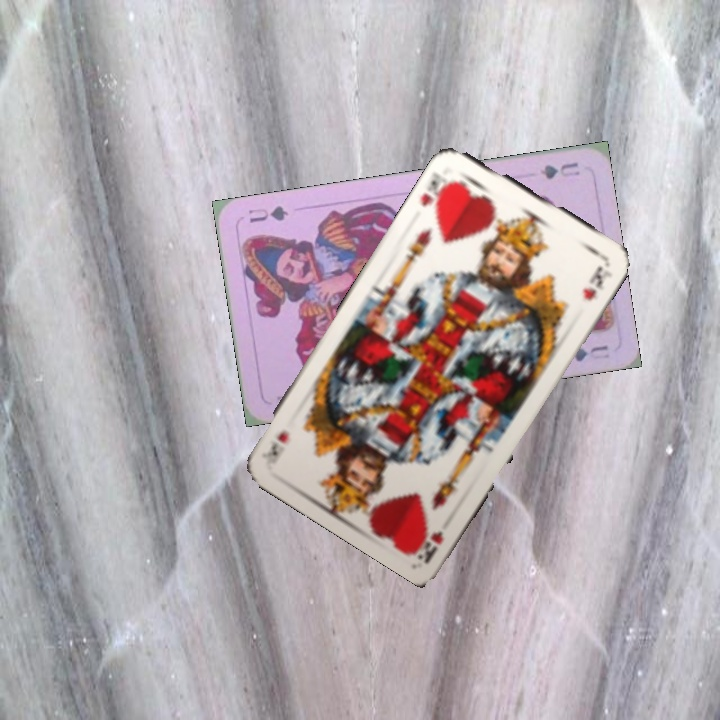GU: (536, 158, 583, 182)
HK: (416, 175, 457, 216), (413, 526, 446, 563)
